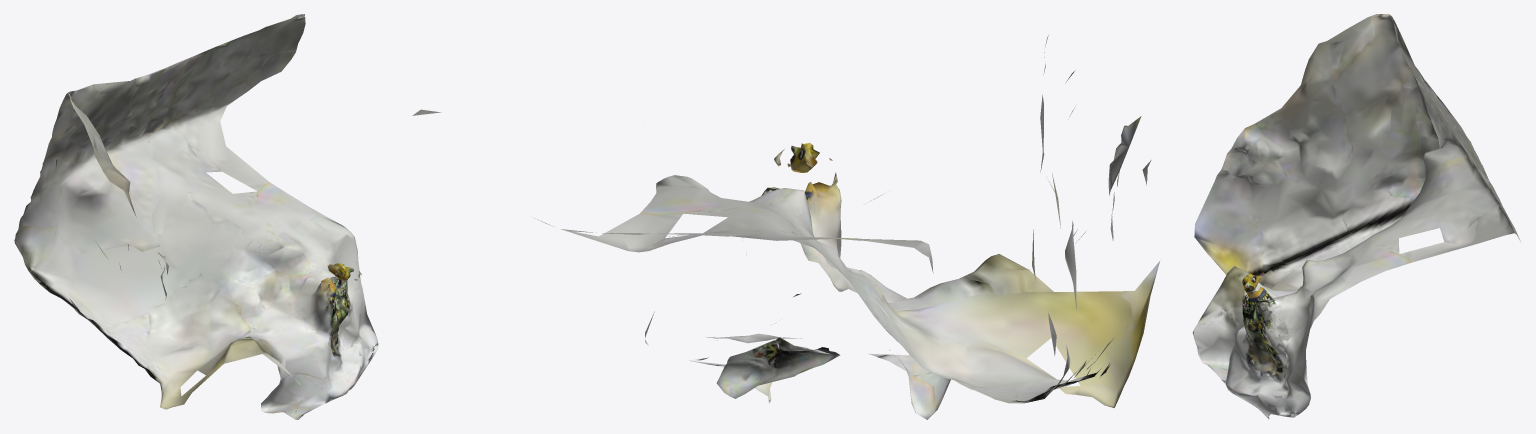
File: hall.glb
3 renders of one model, left to right at view 1: azimuth 30°, elevation 25°; view 2: azimuth 150°, elevation 25°; view 3: azimuth 270°, elevation 25°, orthographic. The views are drawn at different scales.
Bounding box in the file's own units: 1.11 × 1.05 × 1.03.
Materials: 1 (1 with a texture image).
